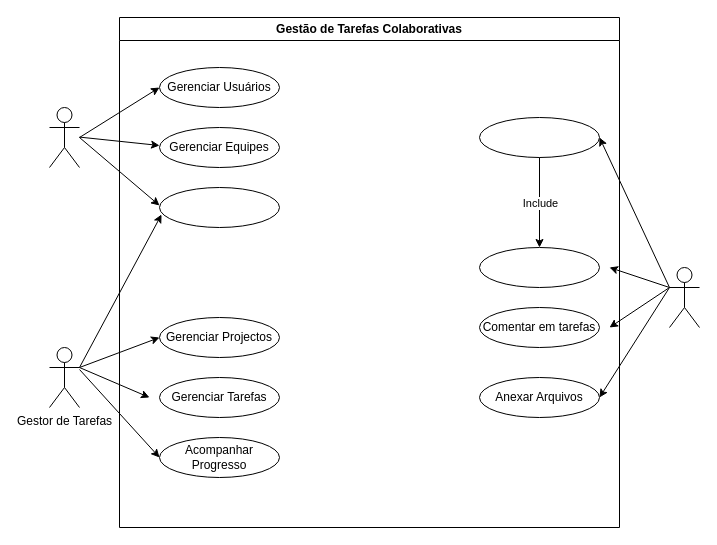
This 717x545 diagram has some shape labels left out. Each missing label, with the box of its shape:
Actor: (668, 266, 700, 328)
Actualizar status da tarefa: (478, 246, 600, 288)
Administrador: (48, 106, 80, 168)
Gerenciar Relatórios: (158, 186, 280, 228)
Visualizar Tarefas: (478, 116, 600, 158)
